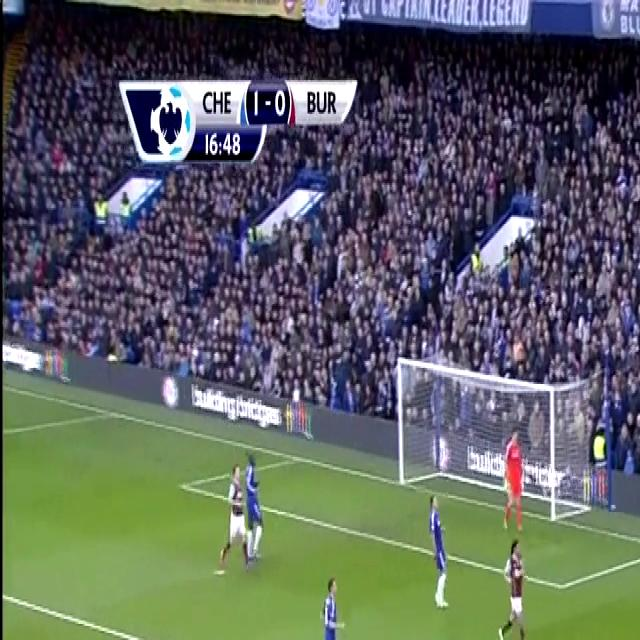goalkeeper: (492, 419, 532, 541)
soccer-player: (421, 492, 462, 616), (494, 521, 535, 640), (217, 460, 251, 579), (243, 452, 269, 567), (317, 554, 348, 640)
